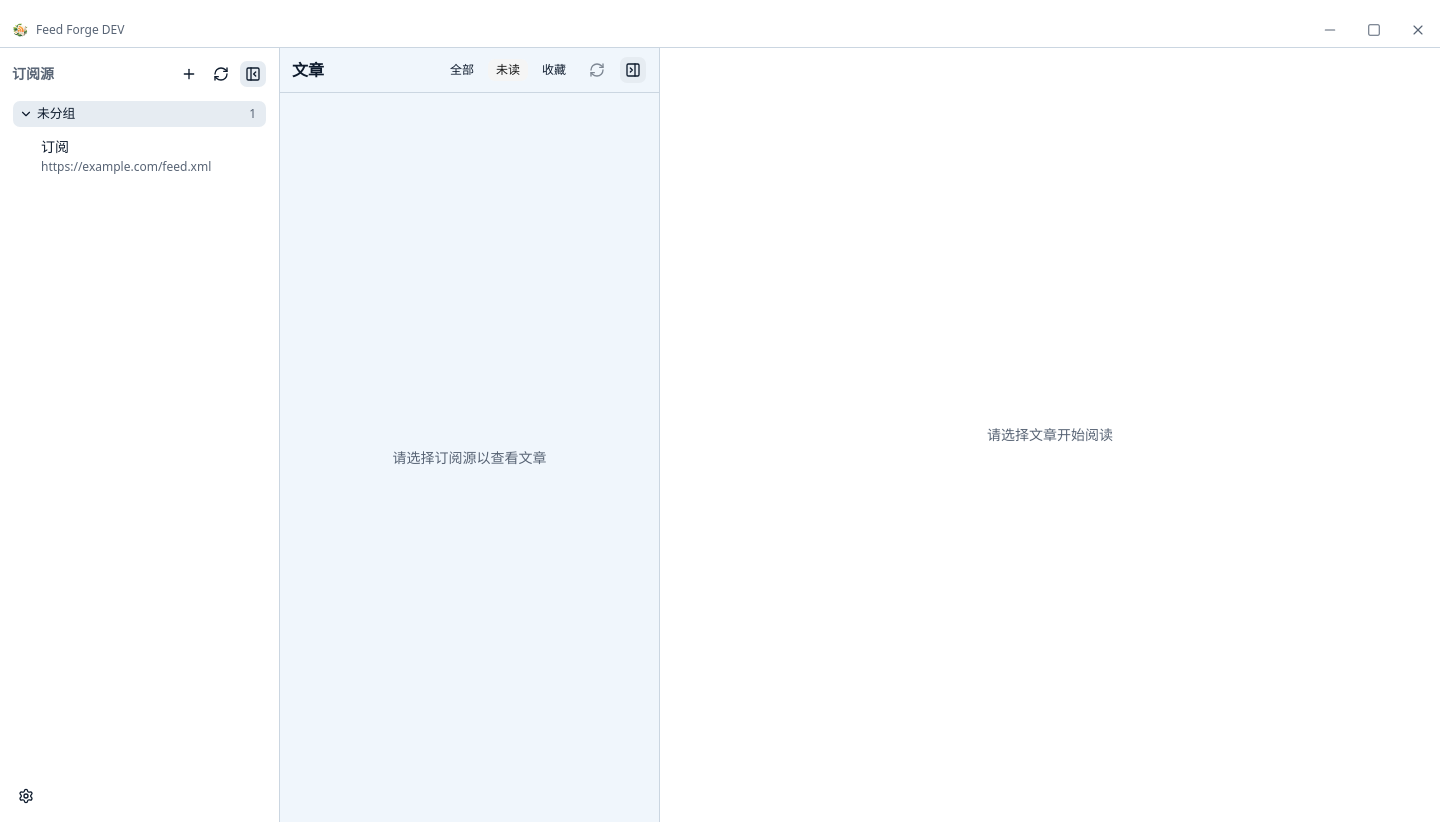
Scenario: keeps an automatically read article open after it leaves the unread results
Click the list item named "订阅https" at (148, 156), box [28,128,267,184]
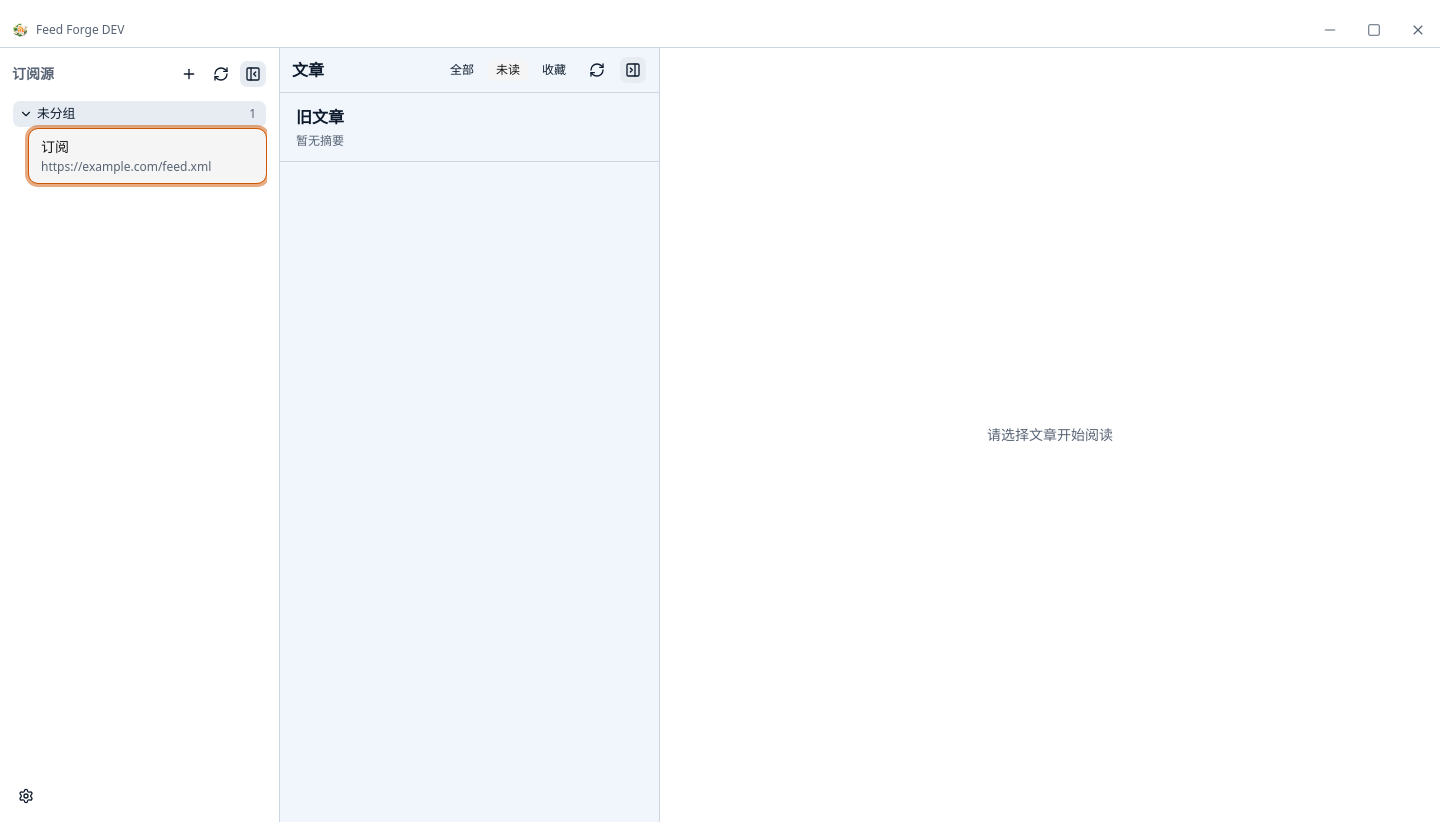
Click the button "旧文章 暂无摘要" at (320, 117), box [280,93,659,161]
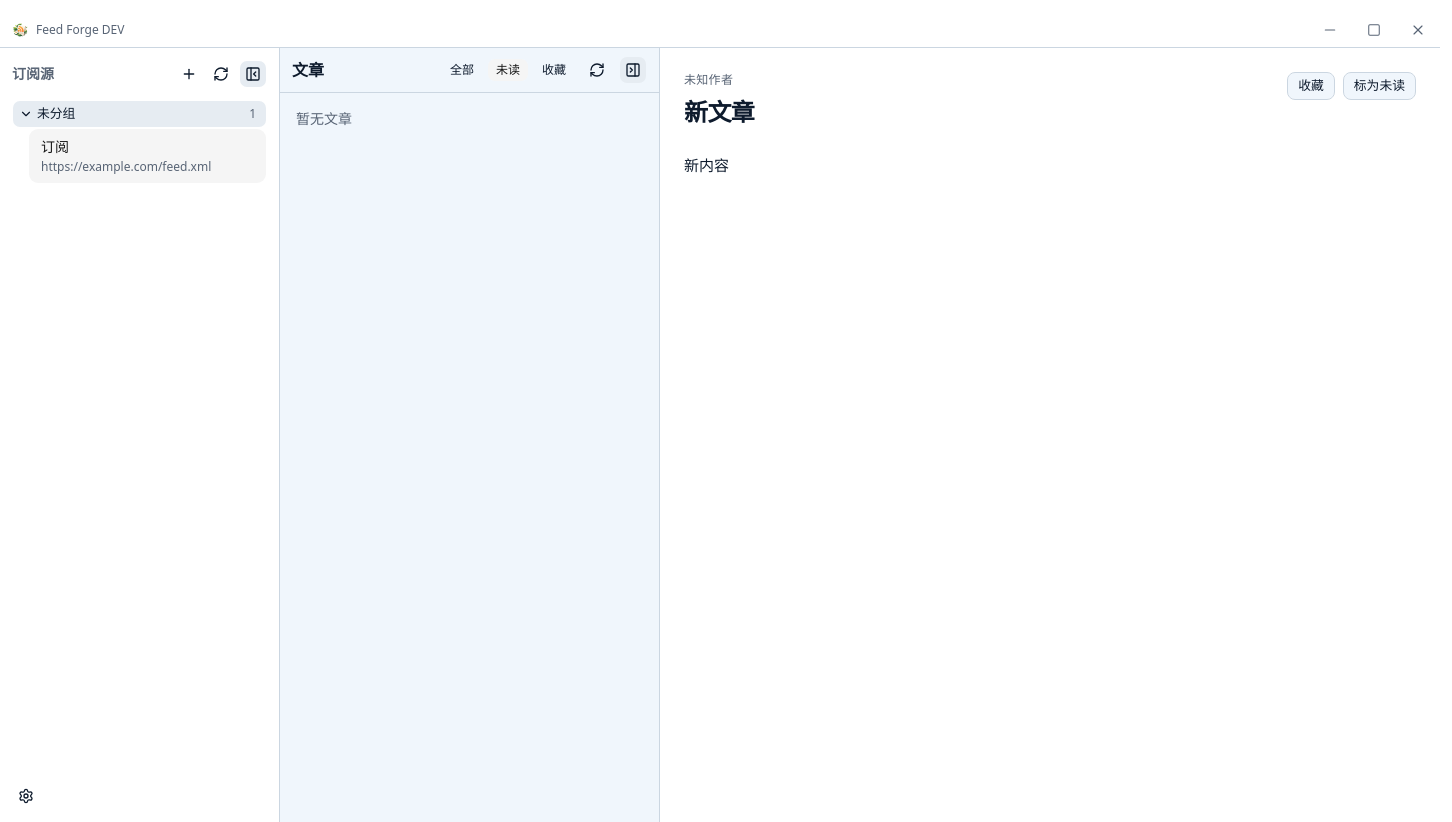
Check: the text "暂无文章" is shown, box [296,109,352,128]
Check: the element showing "未知作者 新文章 收藏 标为未读 新内容" is shown, box [684,71,1416,175]
Check: the button "标为未读" is shown, box [1343,72,1416,100]
